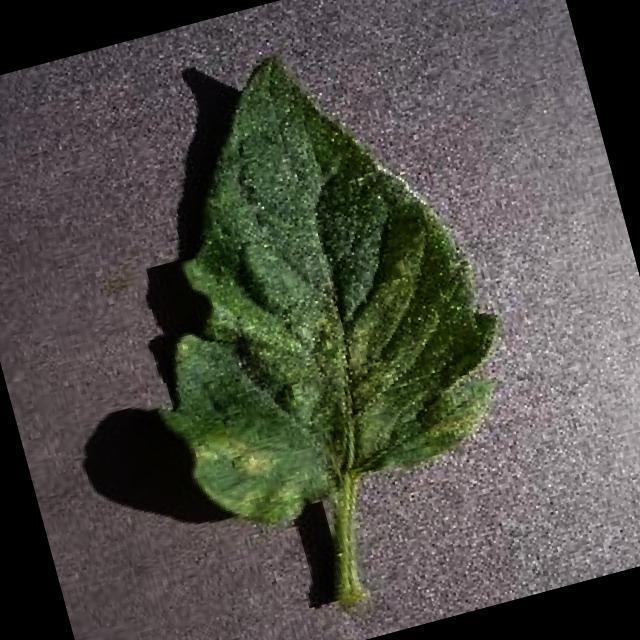Tomato spider mites leaf: (77, 14, 532, 544)
